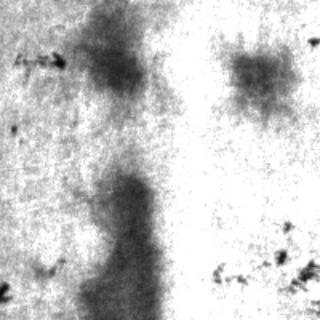patches: (80, 173, 158, 317), (69, 2, 147, 94), (224, 45, 292, 115)
